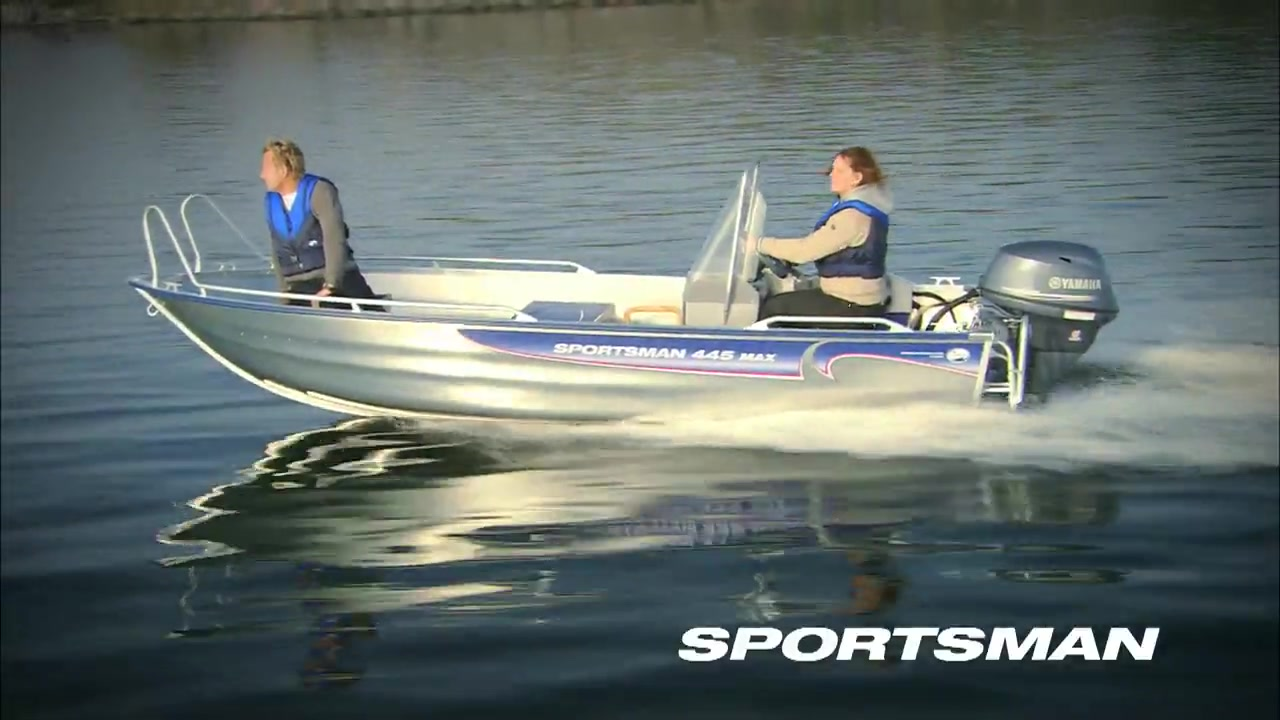boat: (131, 161, 1122, 432)
